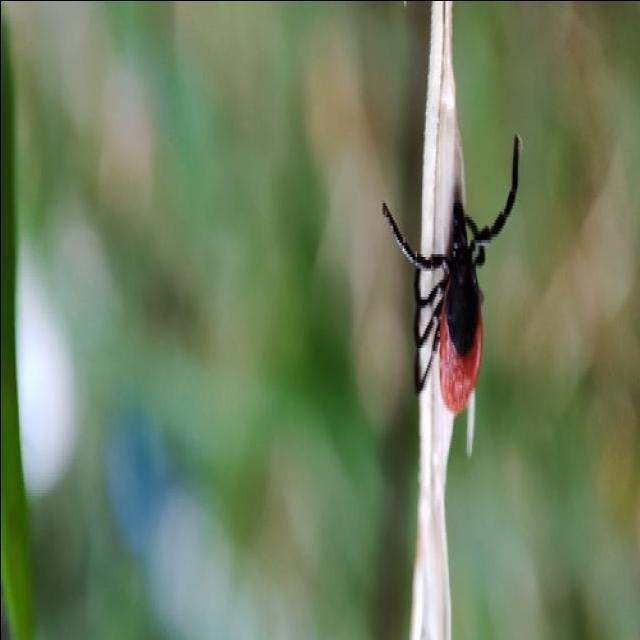Ixodes Ricinus-F: (379, 168, 515, 415)
